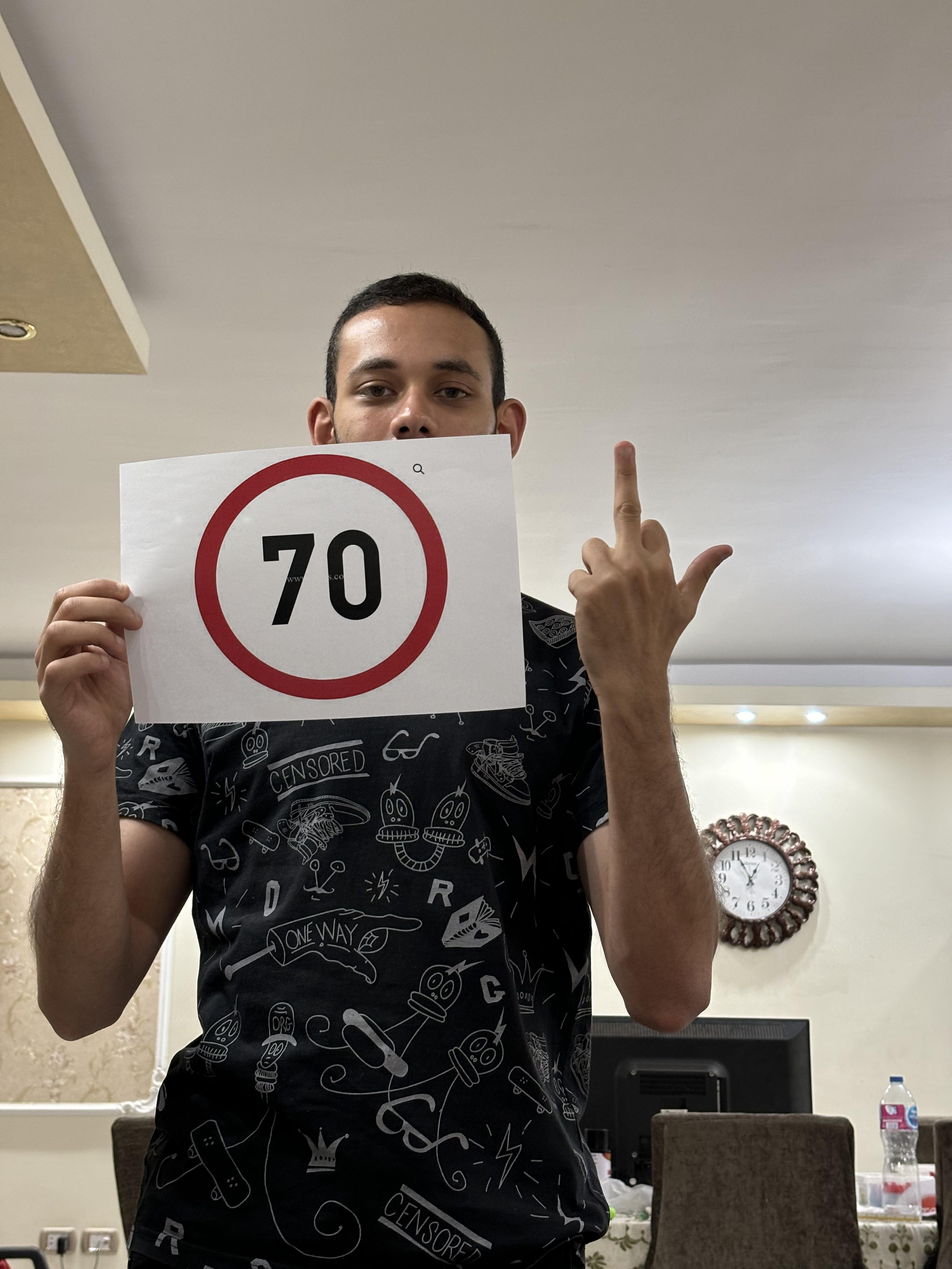70-Speed: (177, 454, 468, 699)
